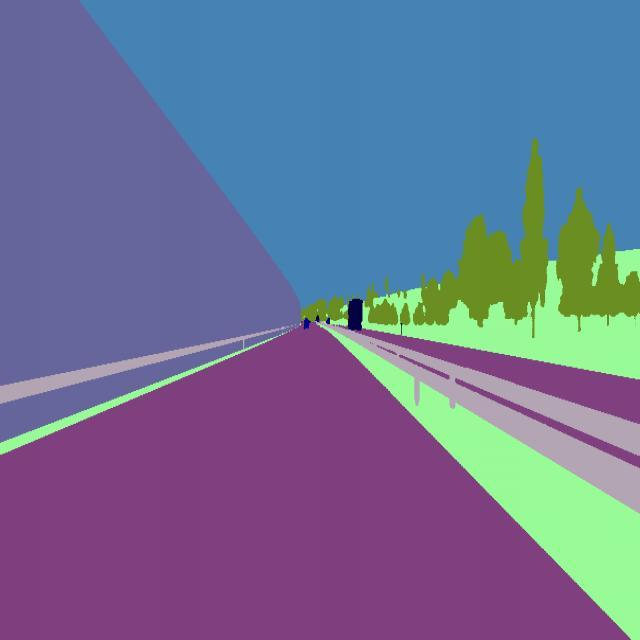safe: (346, 295, 364, 335)
